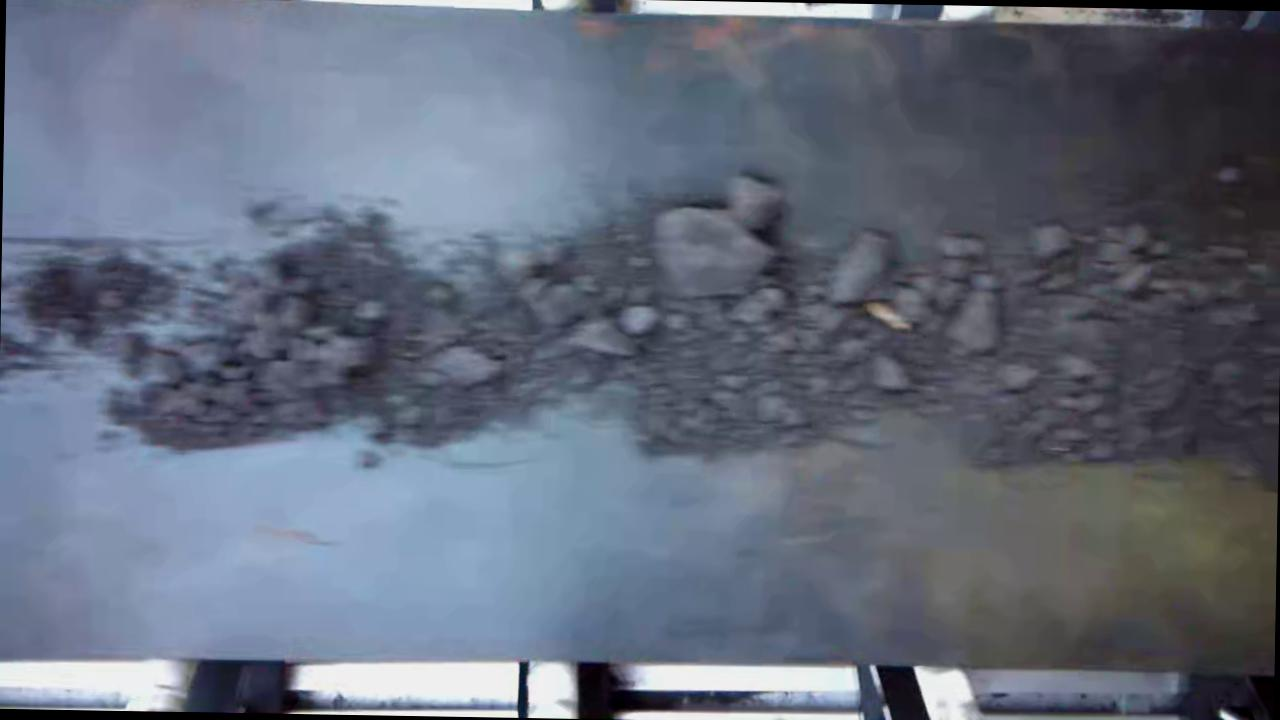conveyor: (0, 1, 1280, 648)
